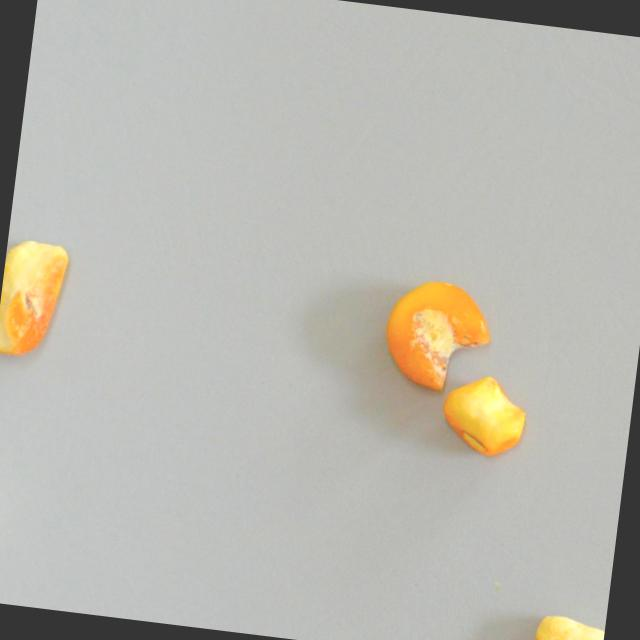dañado: (372, 270, 499, 400), (416, 358, 541, 479), (0, 231, 78, 369), (525, 590, 608, 640)
